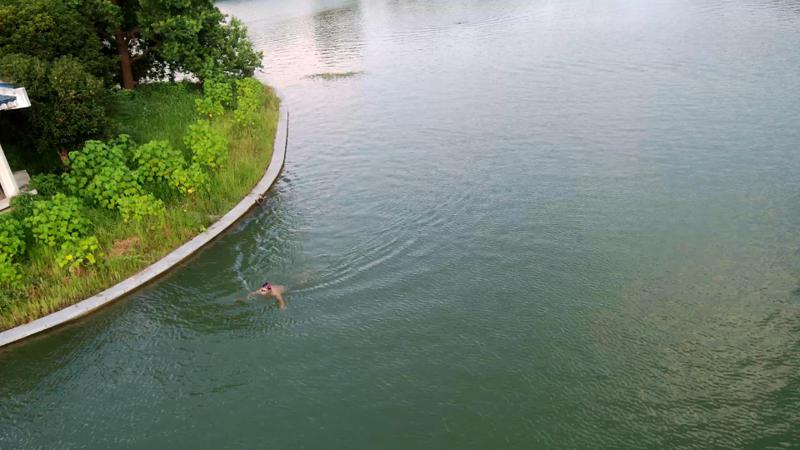swimmers: (247, 282, 287, 312)
